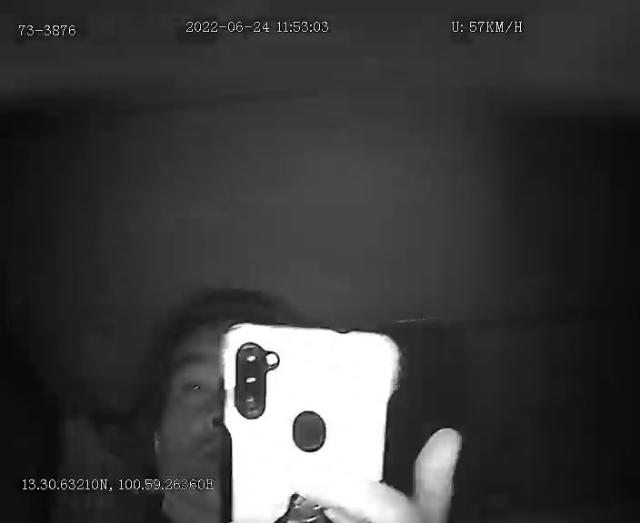Phone: (216, 322, 407, 523)
